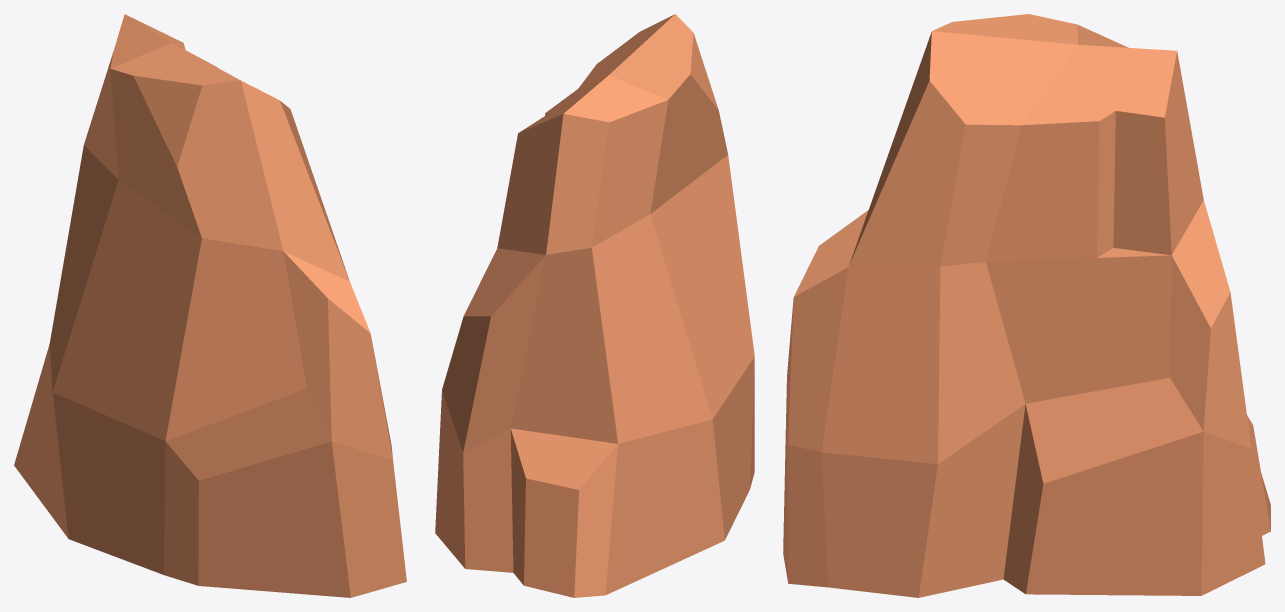
Rendered from Rock_1.fbx.
The picture shows the model from 3 angles, left to right: view 1: azimuth 30°, elevation 25°; view 2: azimuth 150°, elevation 25°; view 3: azimuth 270°, elevation 25°; orthographic projection. The views are drawn at different scales.
Parts seen in each view (by area): view 1: Rock_1; view 2: Rock_1; view 3: Rock_1.
Part boxes in pixels (box(x1,y1,x2,y2)): Rock_1: box(14, 14, 406, 597); Rock_1: box(435, 14, 754, 597); Rock_1: box(783, 14, 1270, 597).
Size of the model in its own units: 116 by 220 by 194.
